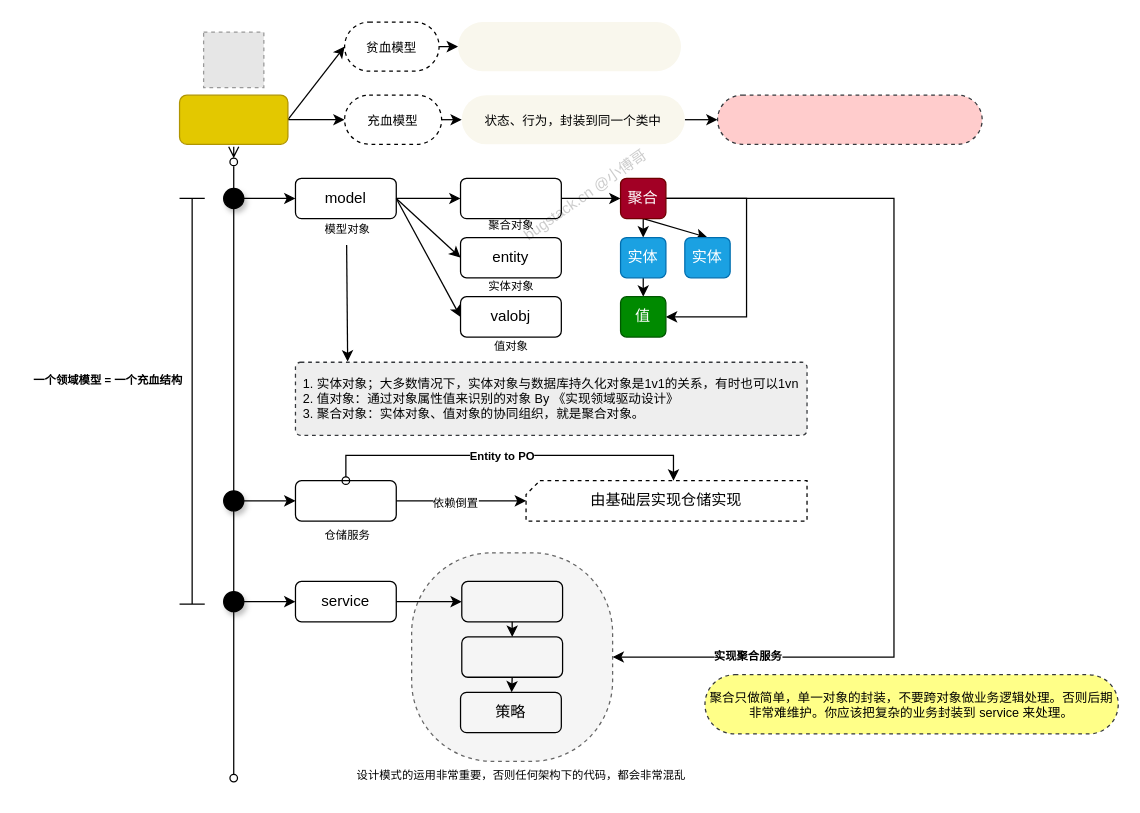
Some shapes in this 1140 by 813 pixel diagram are drawn without their labels. Grey dashed boxes stand in for pictures. Here are the shapes that lost their labels. From the top down, the centre of each, then its label:
At point (568, 46): "状态、行为，分离到不同的对象中".
At point (233, 119): "领域模型".
At point (849, 119): "但这还远远不够，只有把一个 领域包 看做一个充血结构，才会更易于维护。".
At point (510, 198): "aggreate".
At point (345, 500): "repository".
At point (512, 601): "工厂".
At point (512, 656): "模板".
